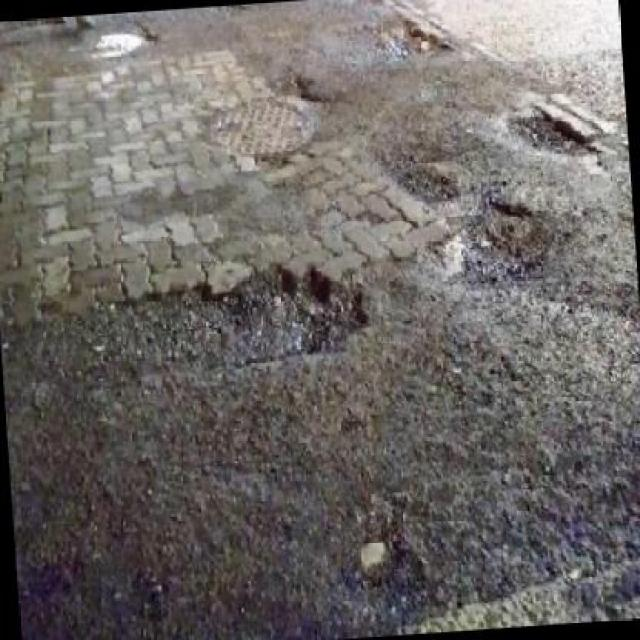pothole1: (92, 251, 371, 380), (429, 192, 558, 292), (506, 103, 600, 162), (370, 5, 456, 66), (90, 18, 158, 62), (395, 160, 457, 206)
